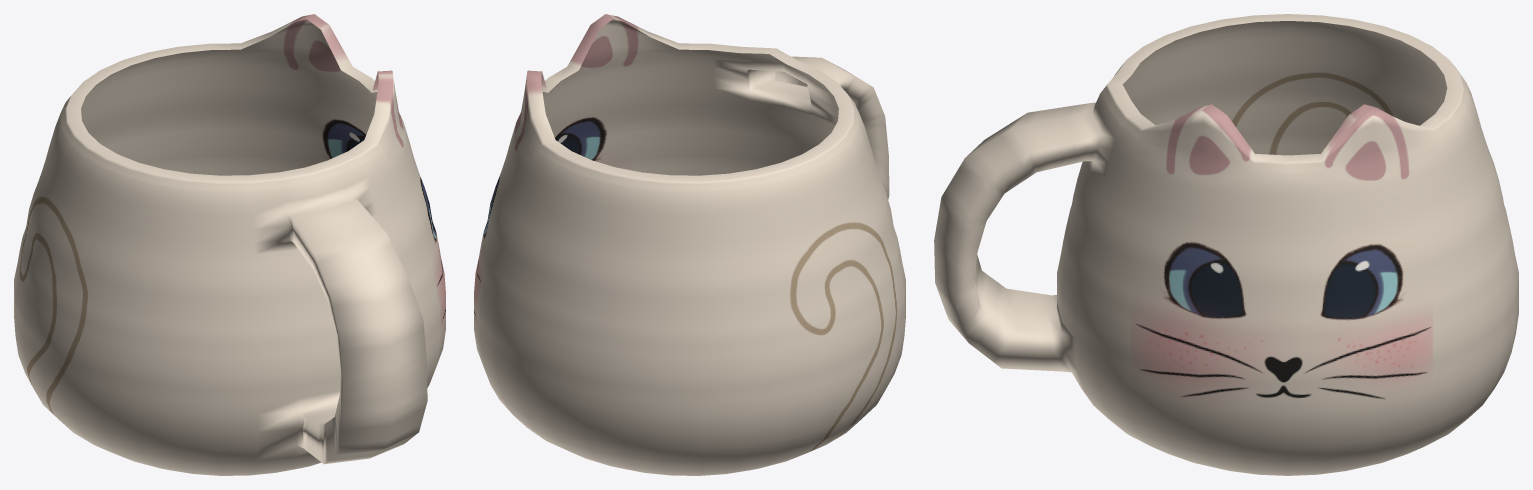
File: beige cat.fbx
3 renders of one model, left to right at view 1: azimuth 30°, elevation 25°; view 2: azimuth 150°, elevation 25°; view 3: azimuth 270°, elevation 25°, orthographic. The views are drawn at different scales.
Visible parts, largest first — view 1: Beige Cat; view 2: Beige Cat; view 3: Beige Cat.
Part boxes in pixels (bbox=[...]): Beige Cat: bbox=[14, 14, 445, 475]; Beige Cat: bbox=[474, 14, 905, 475]; Beige Cat: bbox=[934, 14, 1518, 475].
Bounding box in the file's own units: 19.08 × 17.55 × 24.16.
